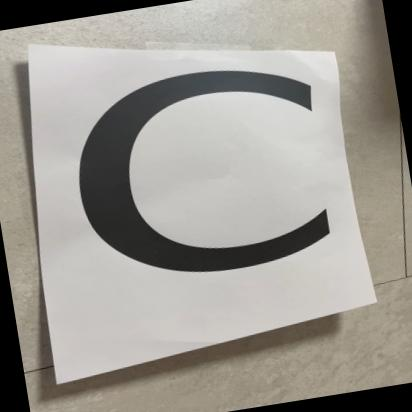seat: (43, 34, 360, 346)
